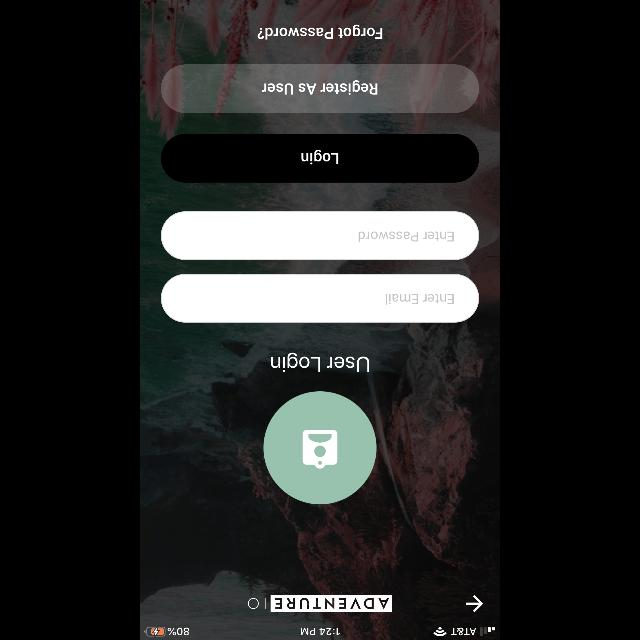backgroundimage: (140, 1, 500, 640)
icon: (263, 391, 377, 505), (465, 594, 483, 612)
image: (248, 594, 392, 612)
input: (161, 274, 479, 322), (161, 212, 479, 260)
text: (258, 24, 382, 40), (271, 352, 369, 372), (358, 232, 454, 242), (386, 294, 454, 304)
textbutton: (161, 64, 479, 114), (161, 134, 479, 182)
uppertaskbar: (140, 626, 500, 640)
